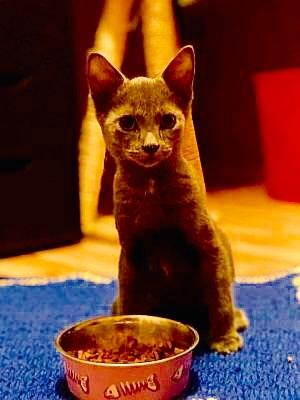rblue: (80, 47, 209, 175)
